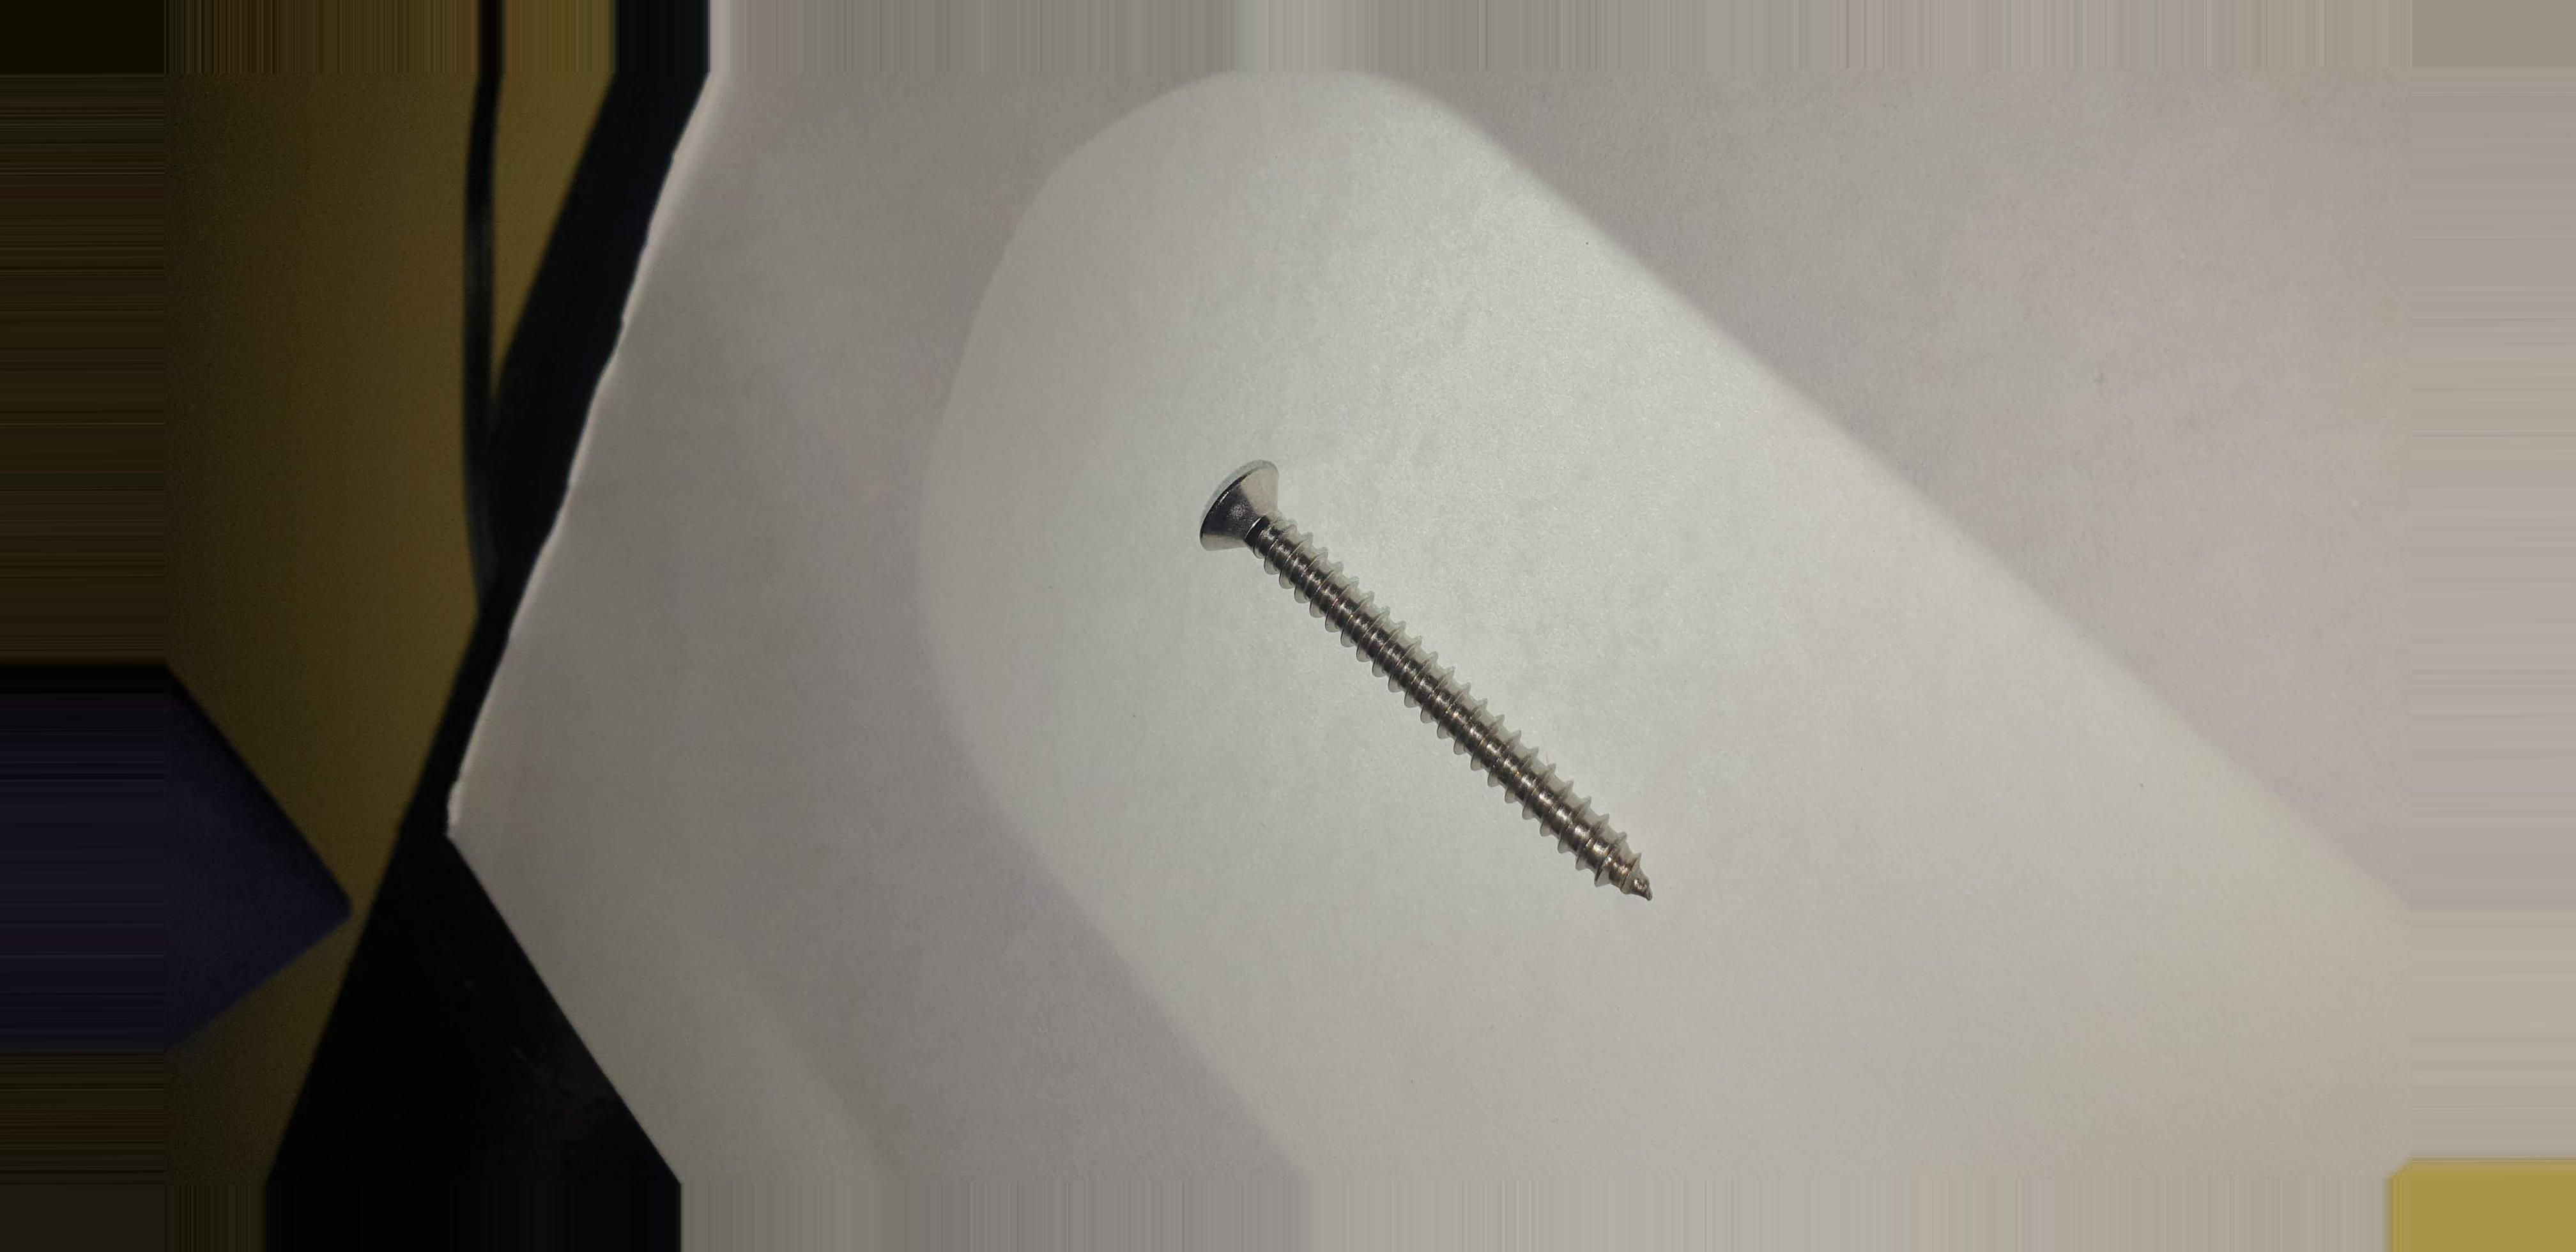fastener: (1120, 426, 1728, 943)
